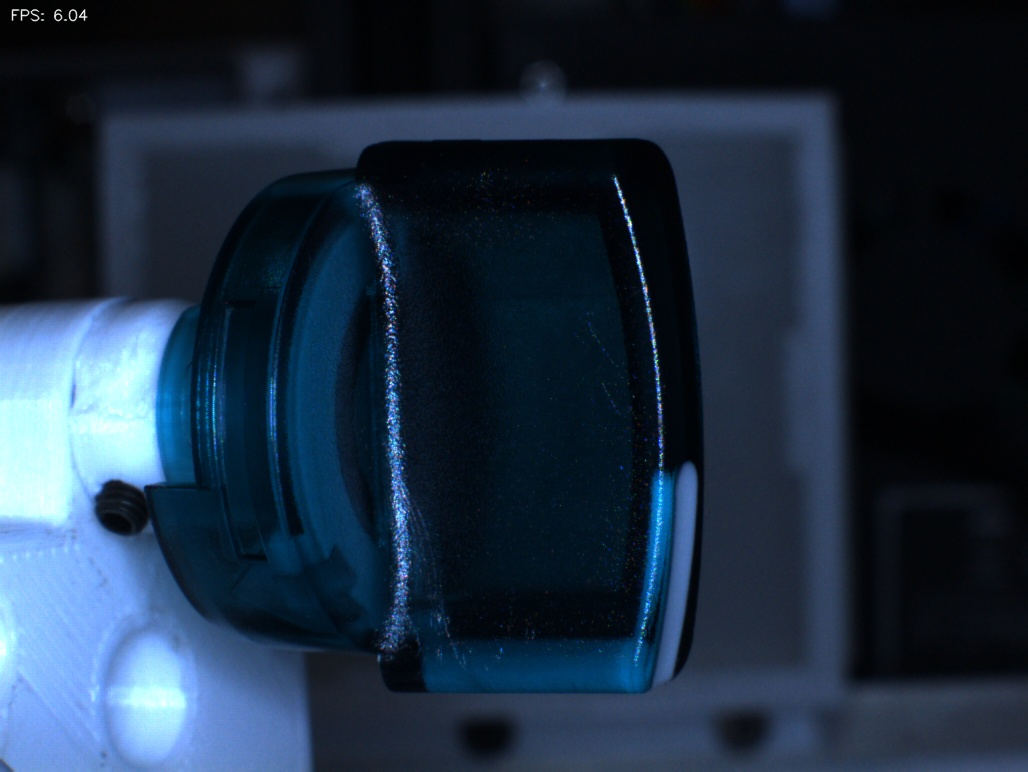Givrage: (397, 480, 462, 652), (570, 300, 641, 455)
